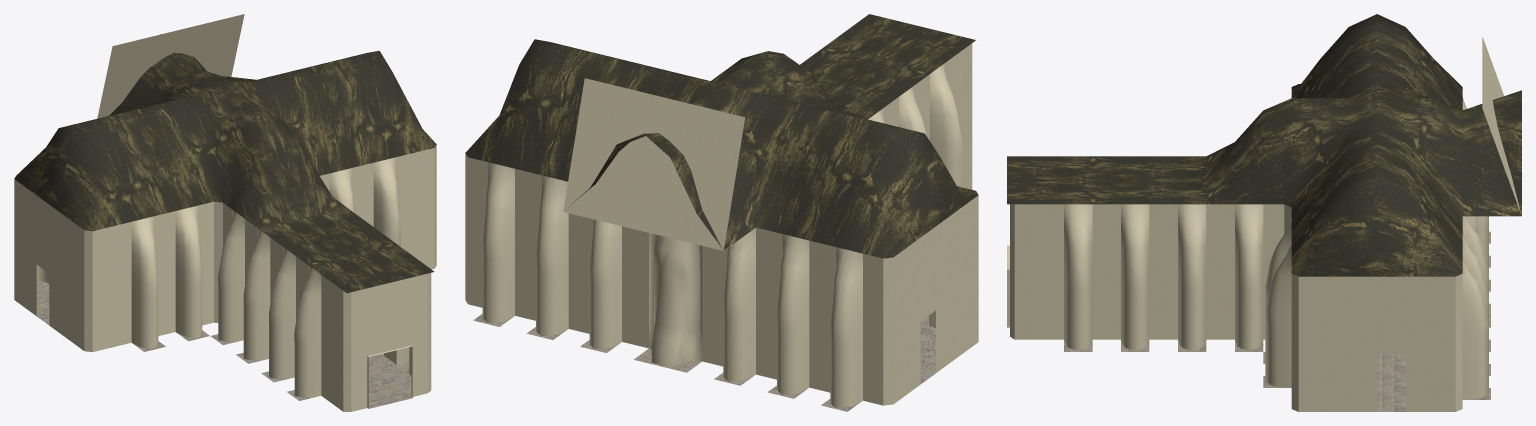
The model's file is chapel.glb.
3 views of the same model, side by side, from view 1: azimuth 30°, elevation 25°; view 2: azimuth 150°, elevation 25°; view 3: azimuth 270°, elevation 25° (orthographic). The views are drawn at different scales.
Parts seen in each view (by area): view 1: Chapel-col, Roof; view 2: Chapel-col, Roof; view 3: Chapel-col, Roof.
Boxes of the visible parts, box(x1,y1,x2,y2) form: Chapel-col: box(14, 14, 436, 411); Roof: box(14, 34, 436, 293); Chapel-col: box(465, 43, 978, 411); Roof: box(465, 14, 978, 258); Chapel-col: box(1007, 36, 1521, 411); Roof: box(1007, 14, 1521, 276).
Size of the model in its own units: 16 by 9.51 by 18.08.
Materials: 3 (3 with a texture image).
